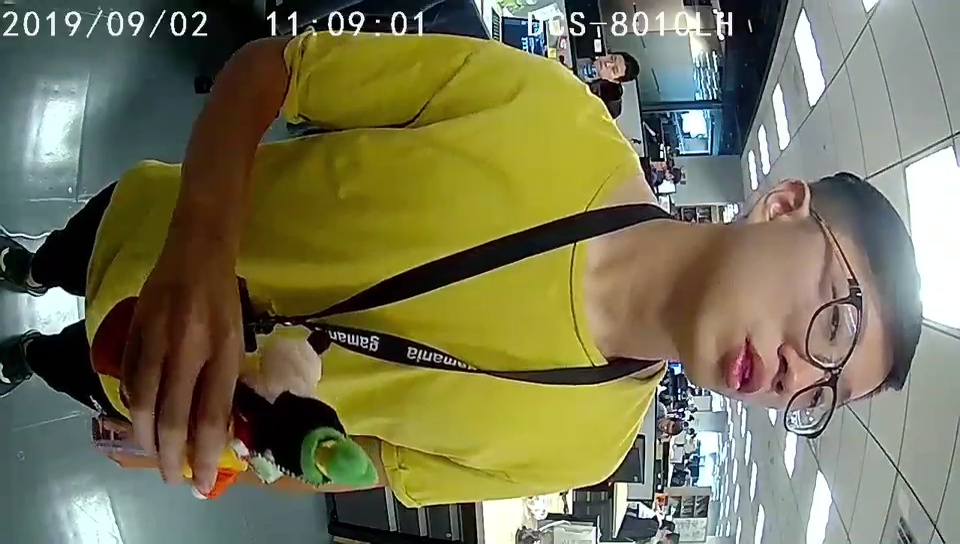goofy: (196, 362, 376, 505)
